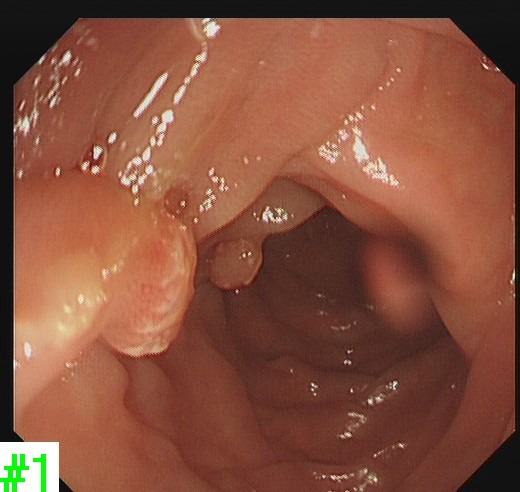adenoma: (204, 236, 267, 292)
